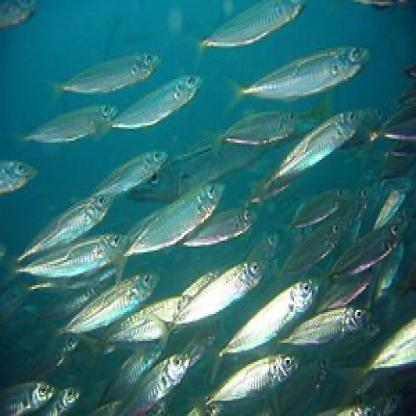tuna: (212, 34, 375, 118), (247, 99, 365, 203), (34, 265, 158, 363), (152, 250, 266, 356), (190, 277, 324, 361), (102, 180, 227, 261), (4, 186, 116, 272), (197, 350, 312, 413), (40, 45, 169, 101), (100, 68, 204, 132), (4, 229, 126, 279), (263, 302, 373, 356), (8, 98, 123, 146)
